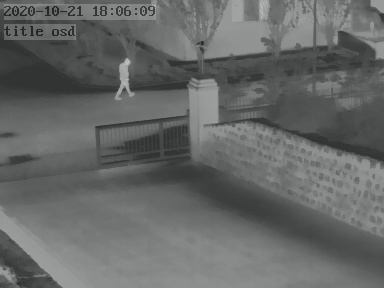person: (114, 57, 134, 100)
